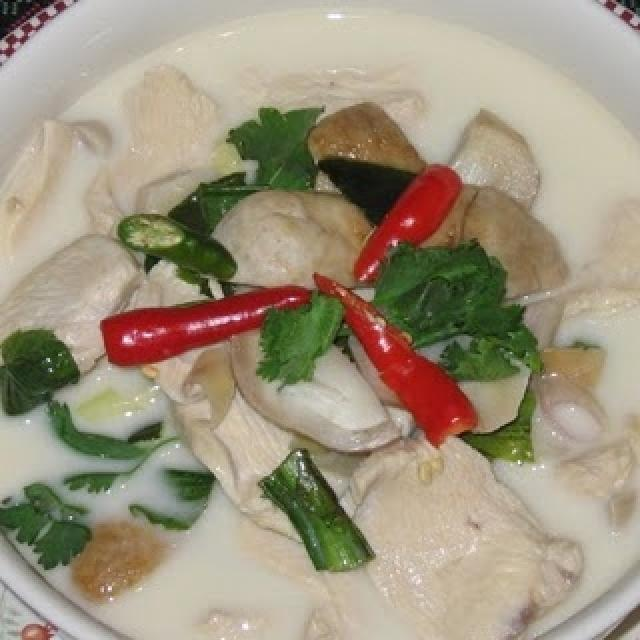汤锅炖物: (10, 16, 620, 626)
